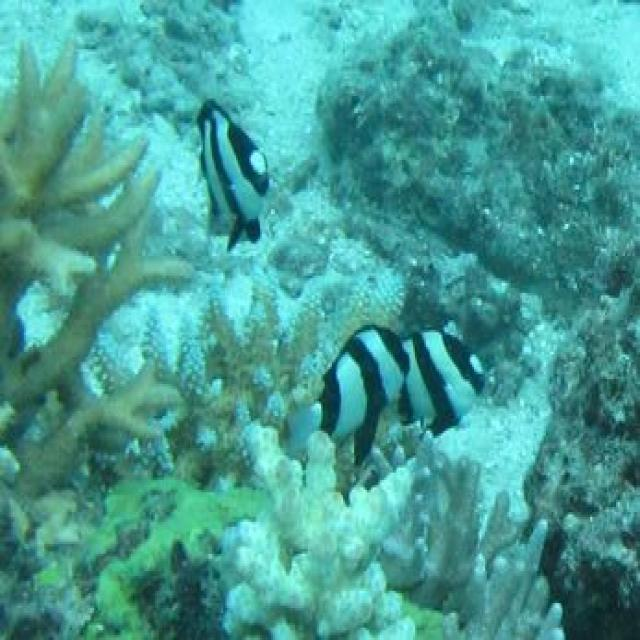Three_striped DasmselFish: (282, 321, 407, 460), (191, 98, 270, 253), (413, 321, 486, 440)
